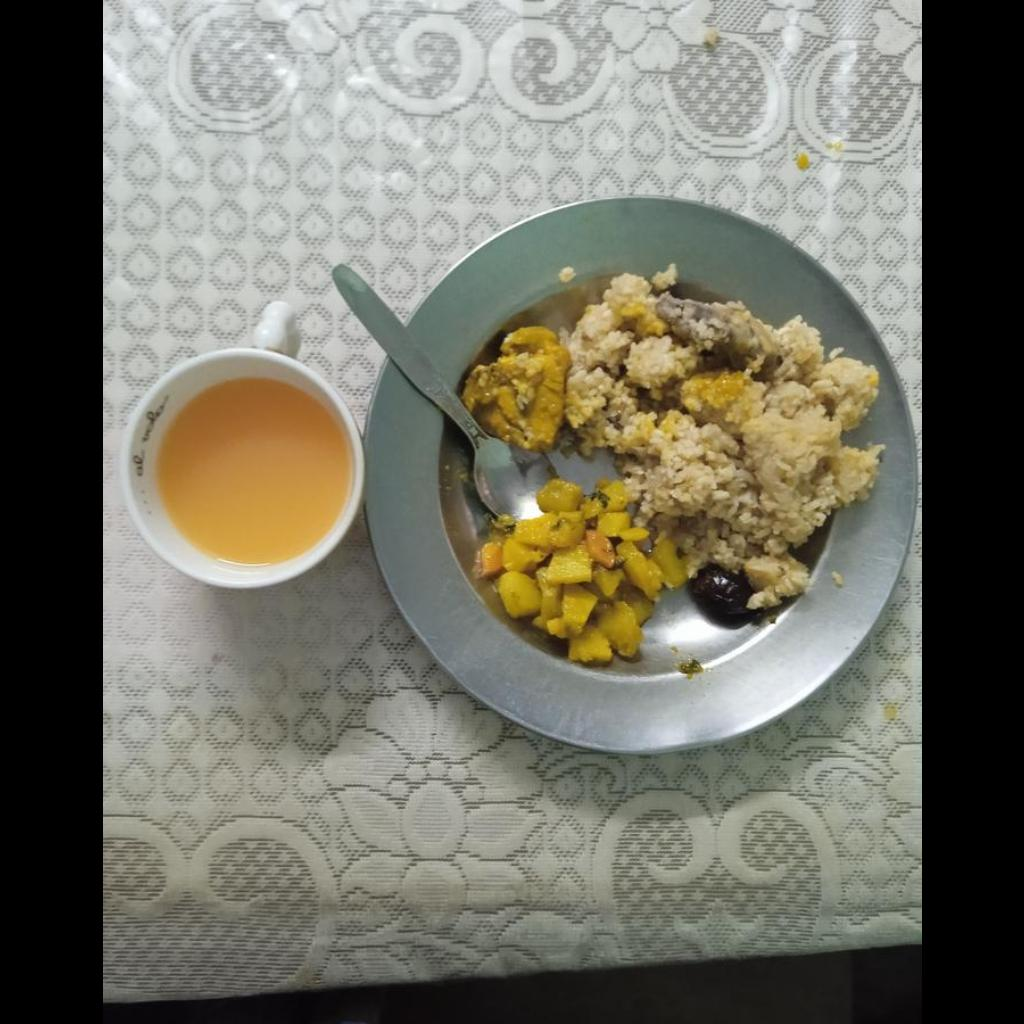biriyani: (563, 269, 881, 608)
chicken: (464, 327, 564, 444)
juice: (154, 378, 346, 564)
vegetable: (473, 487, 671, 665)
